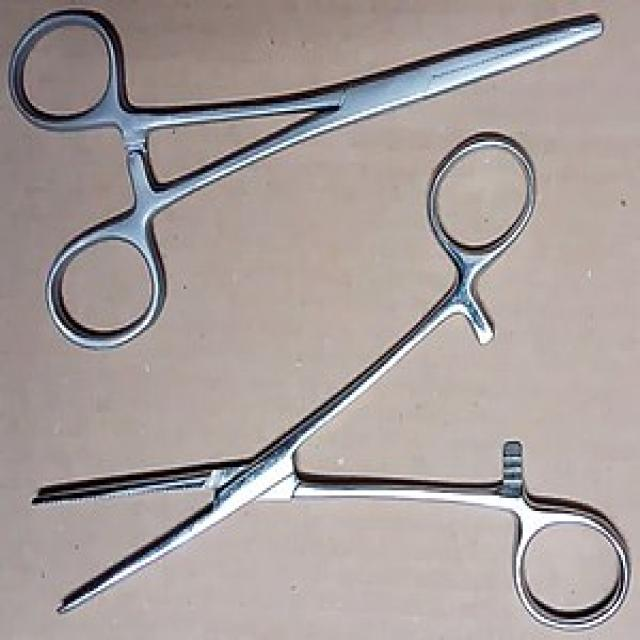B3: (13, 137, 636, 635), (2, 2, 640, 354)
